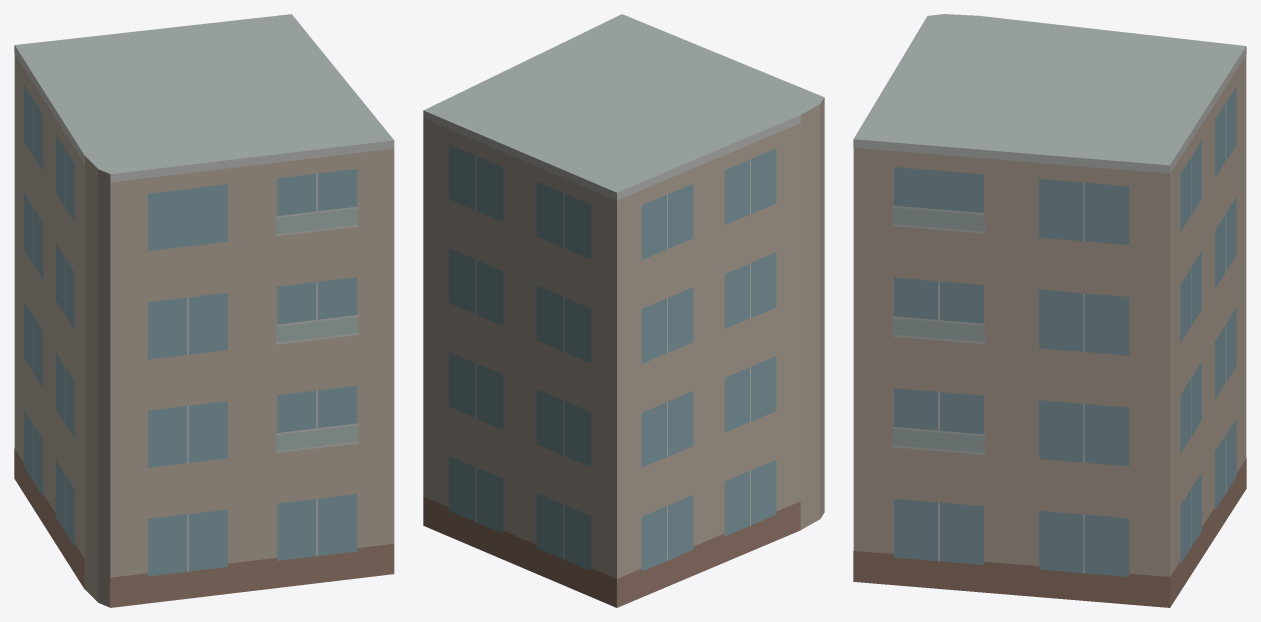
The model's file is survey-upis-32978104.glb.
The picture shows the model from 3 angles, left to right: view 1: azimuth 30°, elevation 25°; view 2: azimuth 150°, elevation 25°; view 3: azimuth 270°, elevation 25°; orthographic projection. The views are drawn at different scales.
Parts seen in each view (by area): view 1: survey-upis-32978104.tmp; view 2: survey-upis-32978104.tmp; view 3: survey-upis-32978104.tmp.
Part boxes in pixels (x1,y1,x2,y2): survey-upis-32978104.tmp: (14,14,394,607); survey-upis-32978104.tmp: (423,14,824,607); survey-upis-32978104.tmp: (853,14,1246,607).
Size of the model in its own units: 9.4 by 12.8 by 10.31.
